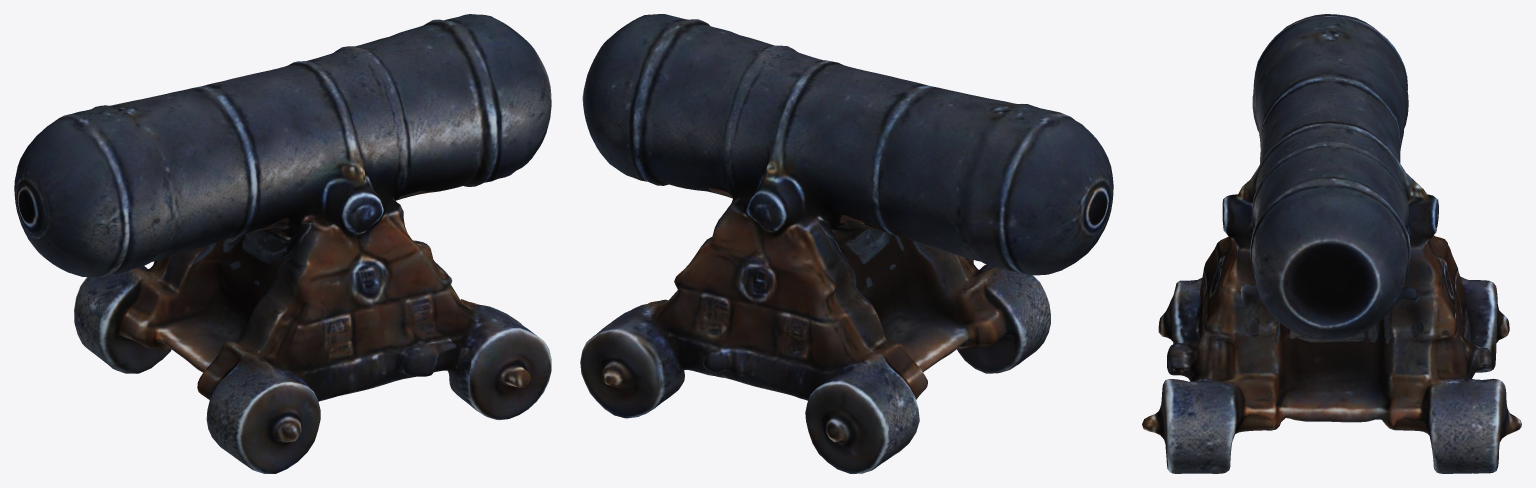
The model's file is heavy-cannon.glb.
The picture shows the model from 3 angles, left to right: view 1: azimuth 30°, elevation 25°; view 2: azimuth 150°, elevation 25°; view 3: azimuth 270°, elevation 25°; orthographic projection. The views are drawn at different scales.
Parts seen in each view (by area): view 1: mesh; view 2: mesh; view 3: mesh.
Part boxes in pixels (x1=…): mesh: x1=14, y1=14, x2=551, y2=473; mesh: x1=580, y1=14, x2=1113, y2=473; mesh: x1=1142, y1=14, x2=1521, y2=473.
Bounding box in the file's own units: 0.9981 × 0.6281 × 0.7026.
Materials: 1 (1 with a texture image).
